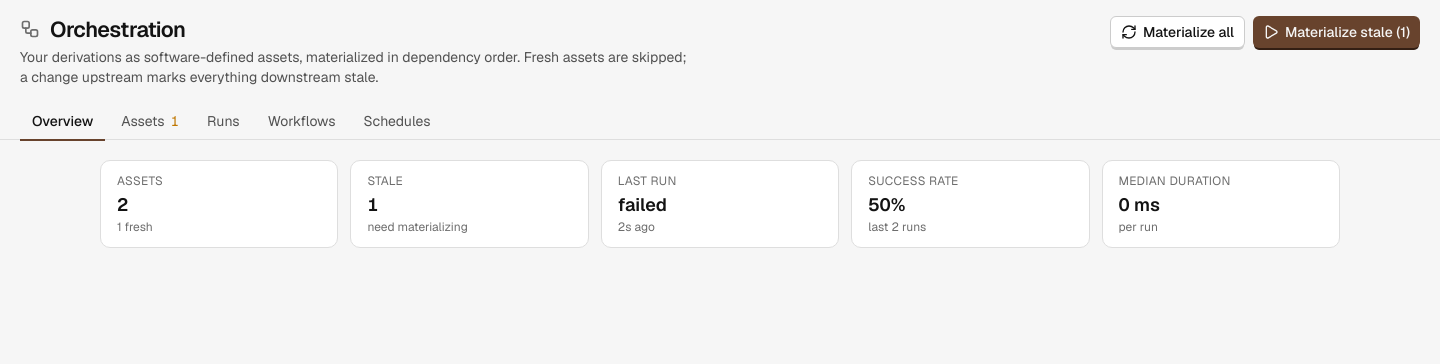
OrchestrationPage › selects a run from a run-history cell, toggles it off, and closes the detail
What coordinates should you click on to do the following:
click the tab "Runs"
I would click on:
 (223, 122)
Its box is [195,103,252,141].
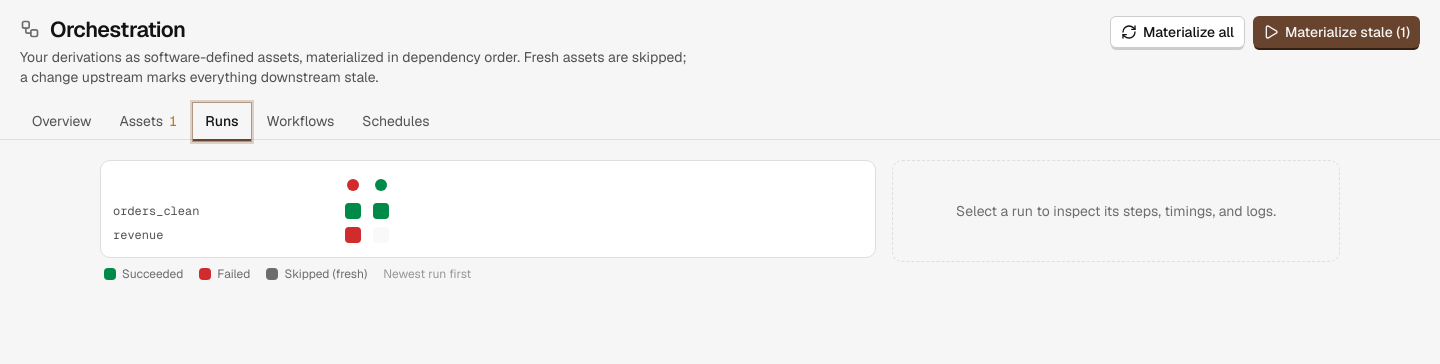
What coordinates should you click on to do the following:
click the button named "manual · failed"
I would click on:
 (353, 185)
Its box is [341,173,365,197].
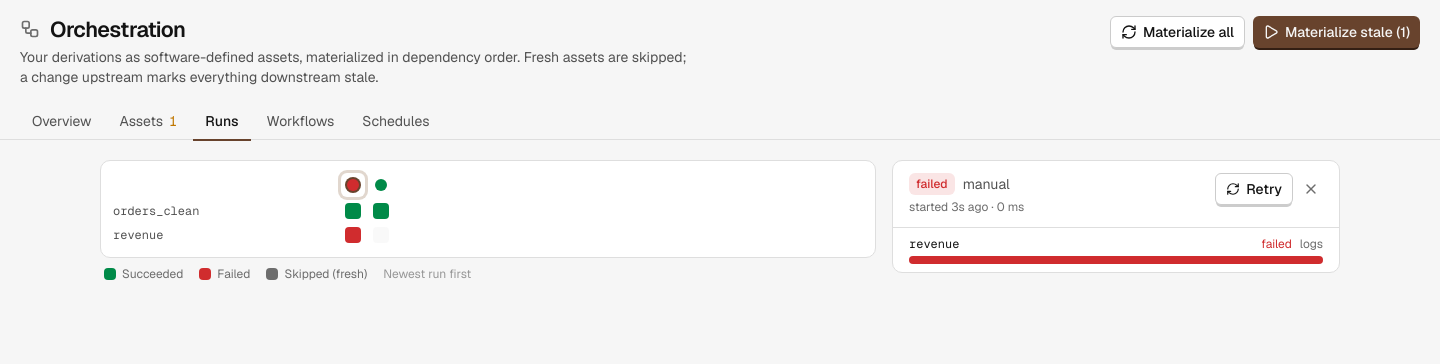
Expected: the button named "Close run detail" is shown, [1299,177,1323,201]
// A cell of the selected run deselects it.
What coordinates should you click on to do the following:
click the button named "revenue · failed"
I would click on:
 (353, 235)
Its box is [341,225,365,245].
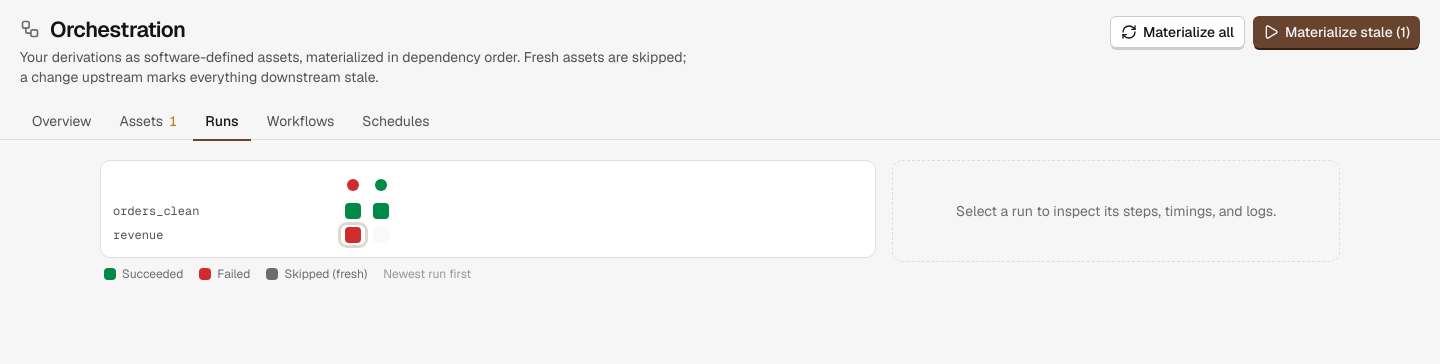
Expected: the text "Select a run to inspect its steps, timings, and logs." is shown, [892,160,1340,262]
What coordinates should you click on to do the following:
click the 1st button named "orders_clean · succeeded"
I would click on:
 (353, 211)
Its box is [341,201,365,221].
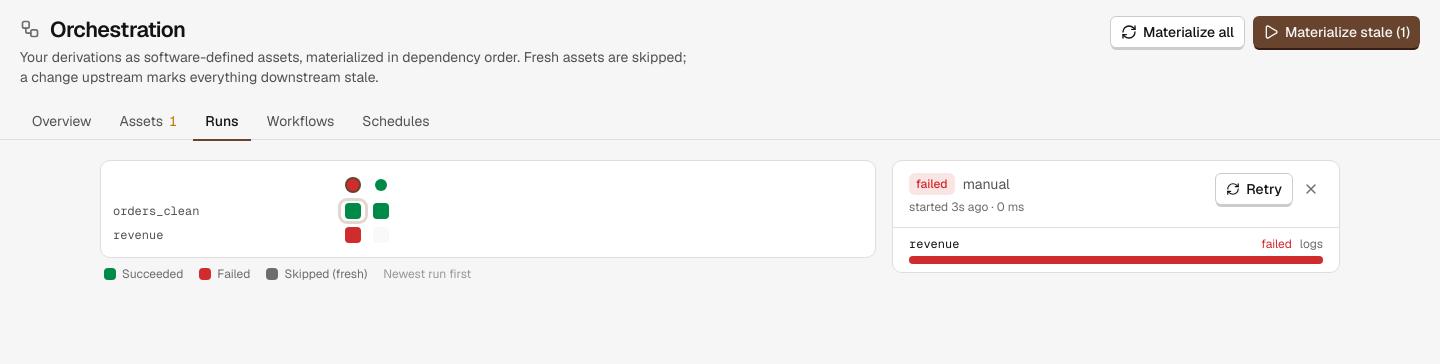
Expected: the button named "Close run detail" is shown, [1299,177,1323,201]
What coordinates should you click on to do the following:
click the button "logs"
I would click on:
 (1311, 244)
Its box is [1300,236,1323,252].
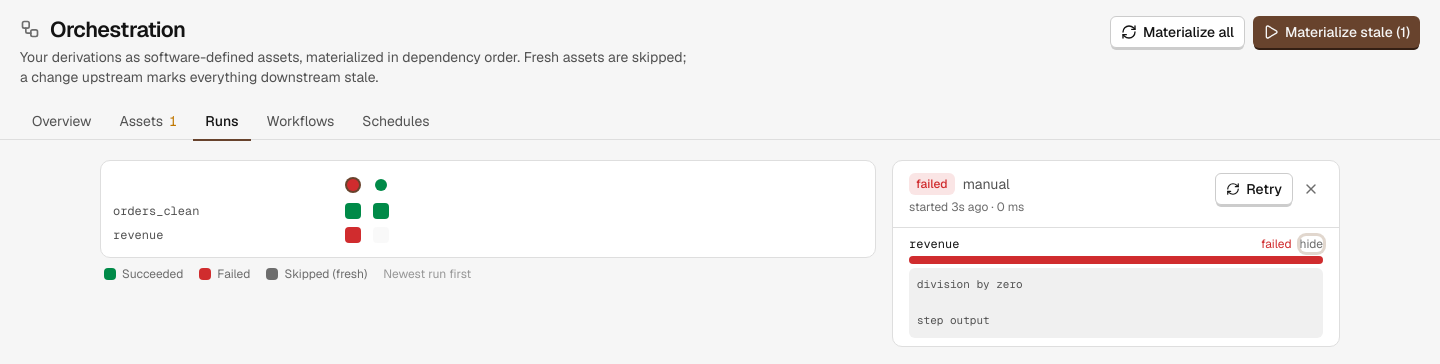
Expected: the text "division by zero step output" is shown, [909,268,1323,338]
What coordinates should you click on to do the following:
click the button named "Close run detail"
I would click on:
 (1311, 189)
Its box is [1299,177,1323,201].
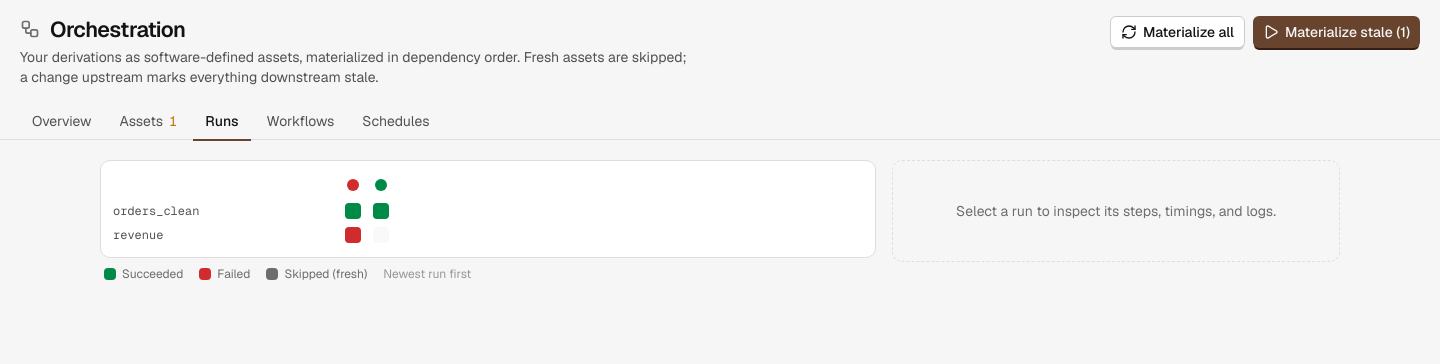
Expected: the text "Select a run to inspect its steps, timings, and logs." is shown, [892,160,1340,262]
